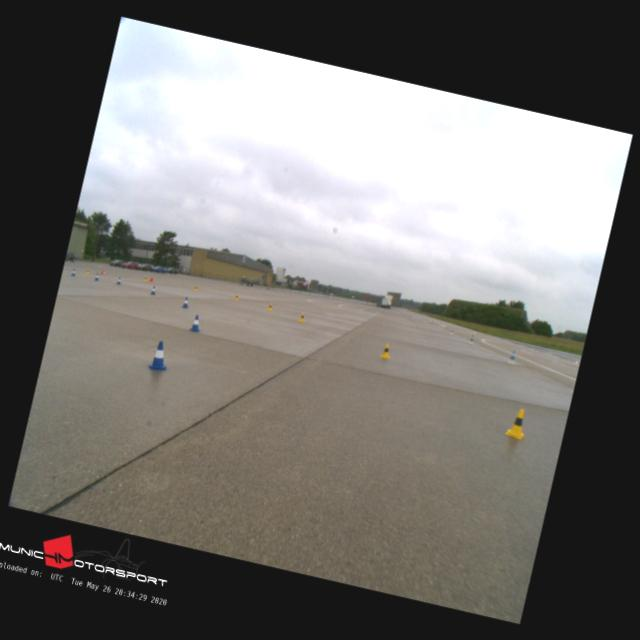blue_cone: (148, 340, 172, 370), (189, 314, 203, 332), (180, 296, 190, 308), (150, 285, 157, 295), (116, 276, 122, 284), (70, 268, 76, 276), (94, 272, 99, 280)
yellow_cone: (504, 406, 530, 440), (379, 342, 391, 358), (298, 312, 305, 322), (267, 302, 273, 310), (142, 274, 147, 282), (193, 284, 198, 291), (234, 293, 238, 300), (85, 268, 89, 274)
